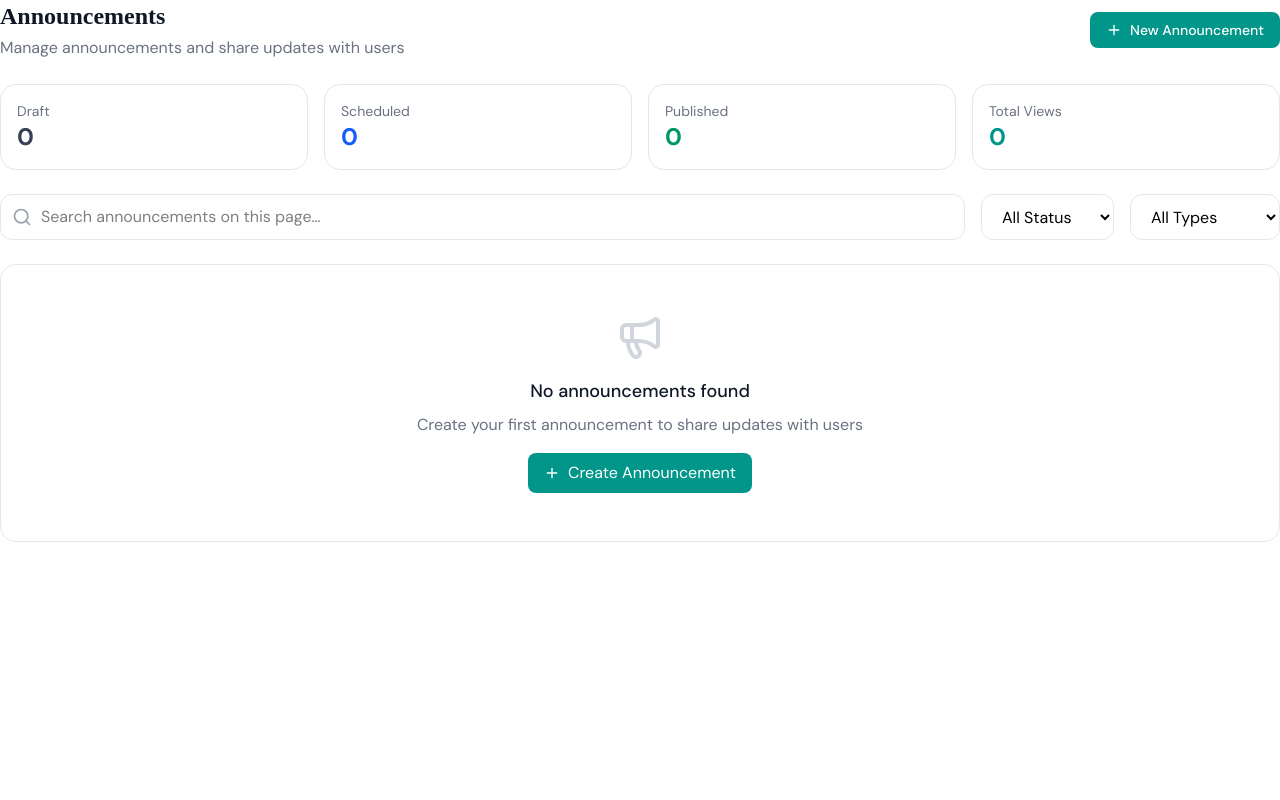
Test case: FE-04 Announcements save validation › hostile actionUrl (javascript:) blocks the save with an inline error
The width and height of the screenshot is (1280, 800).
Click the button "New Announcement": (1185, 30) [1090,12,1279,48]
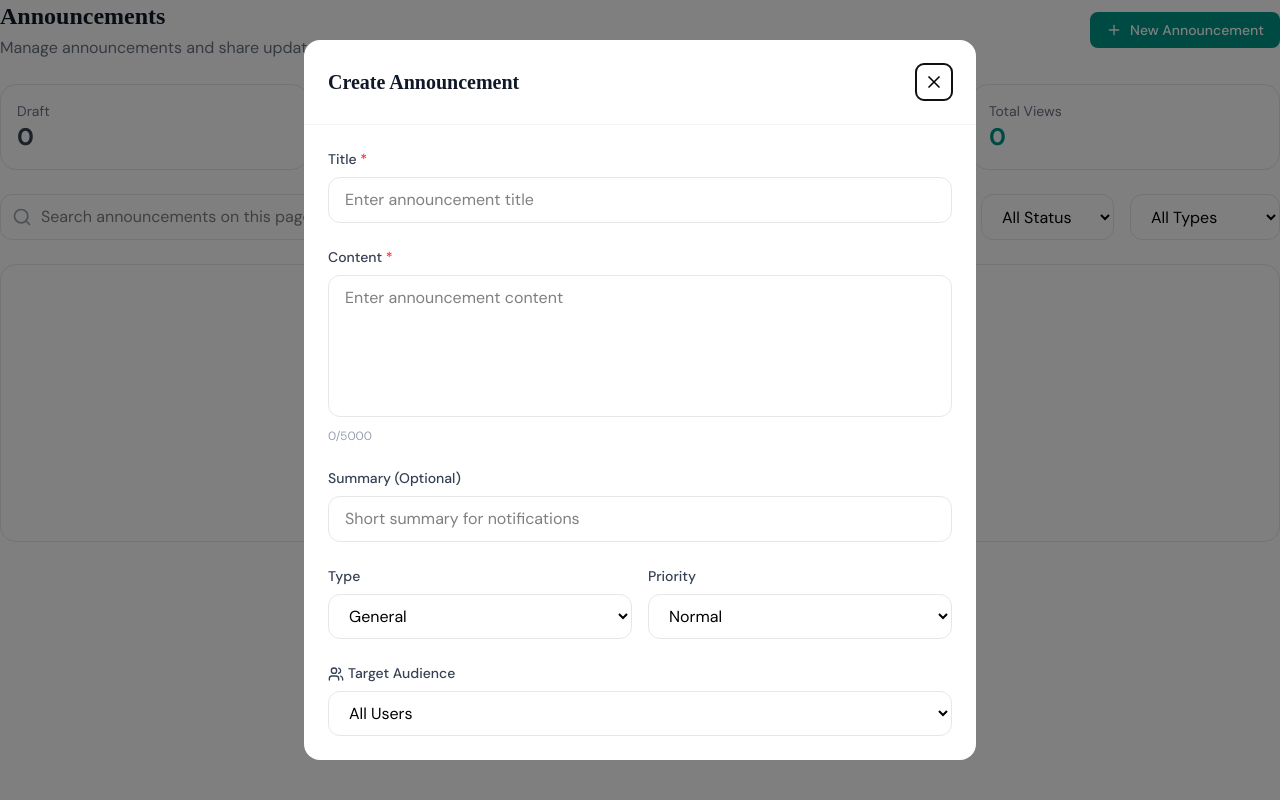
In the field with placeholder "Enter announcement title": (640, 200) [328,177,952,223], type "Sale"
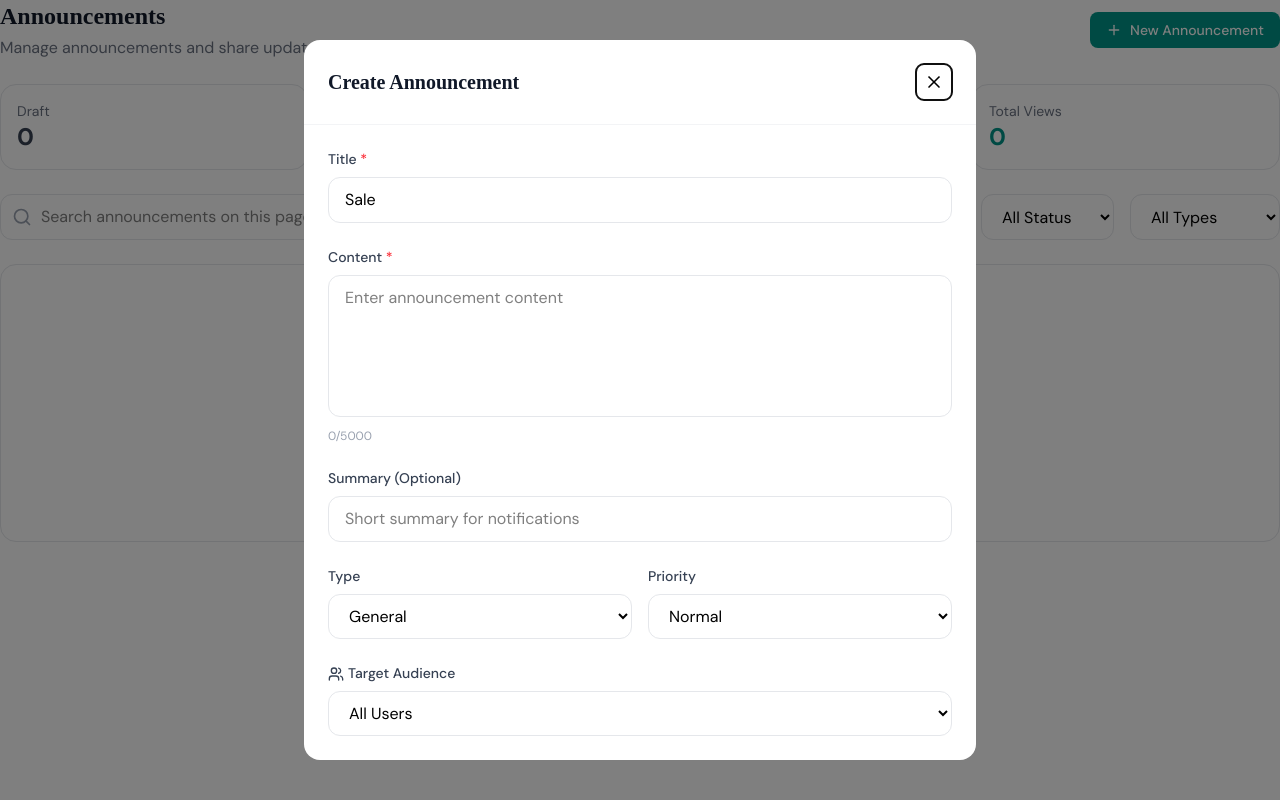
In the text box with placeholder "Enter announcement content": (640, 346) [328,275,952,417], type "Big sale this week"
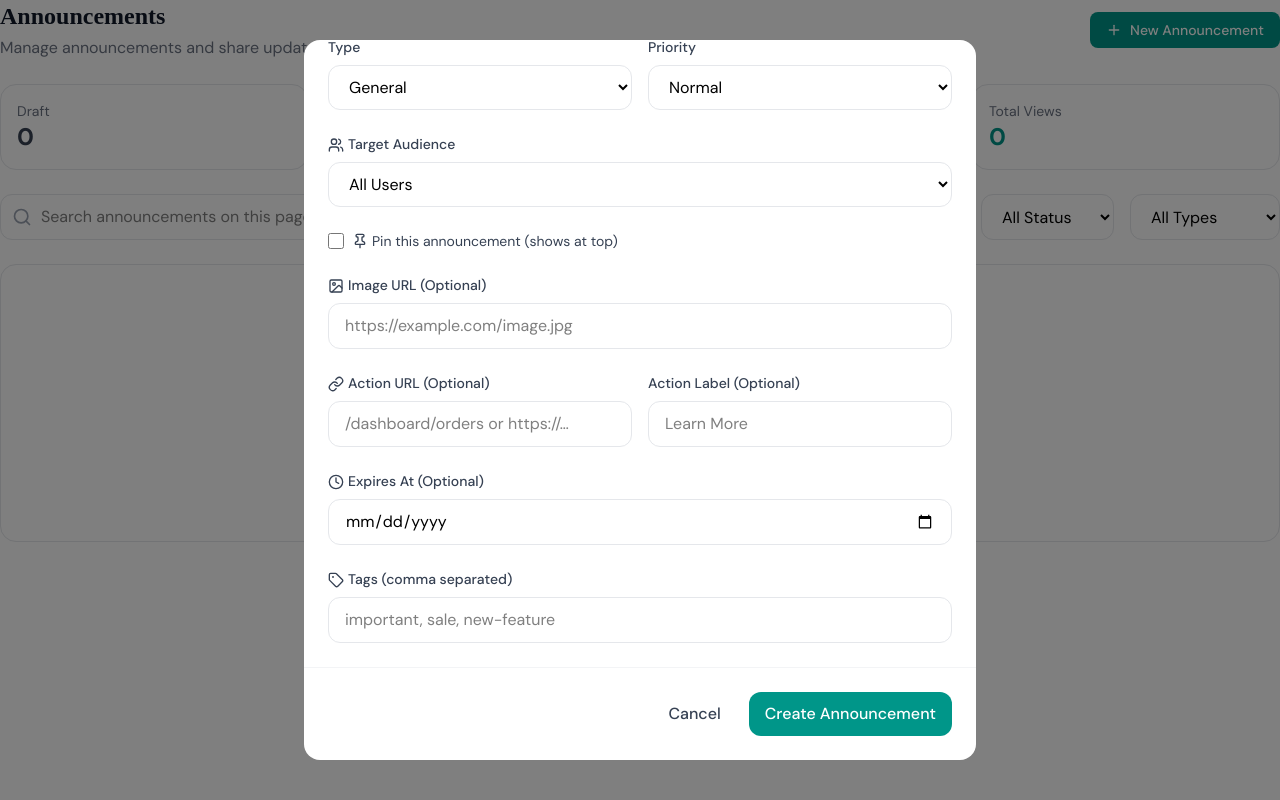
In the field with placeholder "/dashboard/orders or https://…": (480, 424) [328,401,632,447], type "javascript:alert(1)"
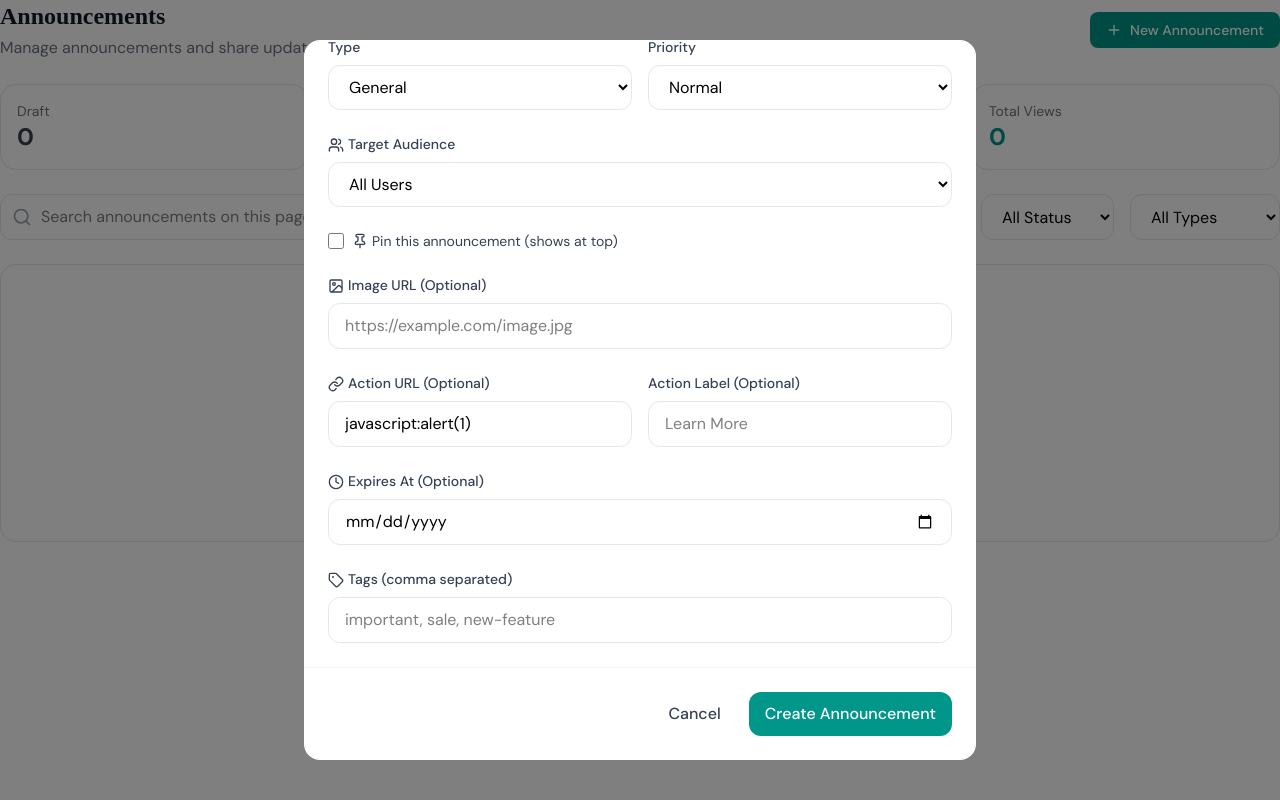
Click the button "Create Announcement": (850, 714) [749,692,952,736]
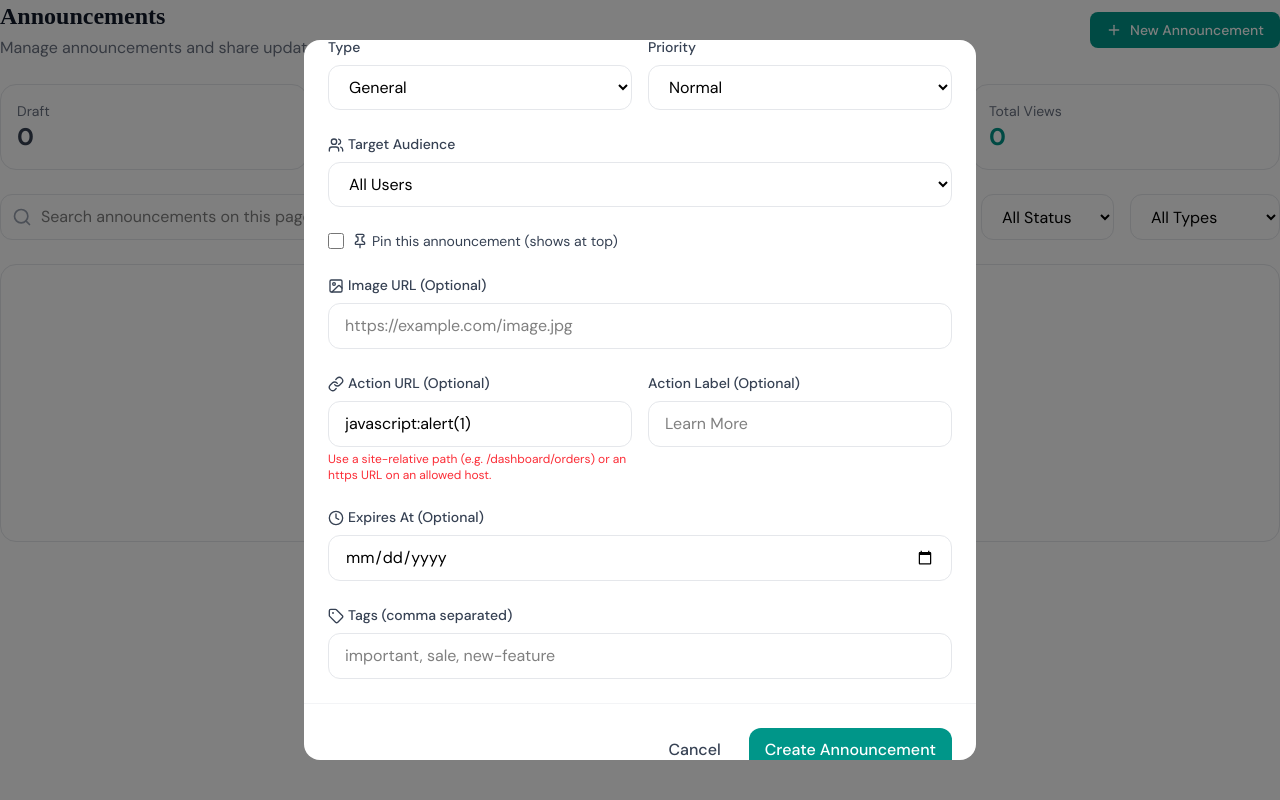
Check: the message shows "site-relative path", box [328,451,626,483]
